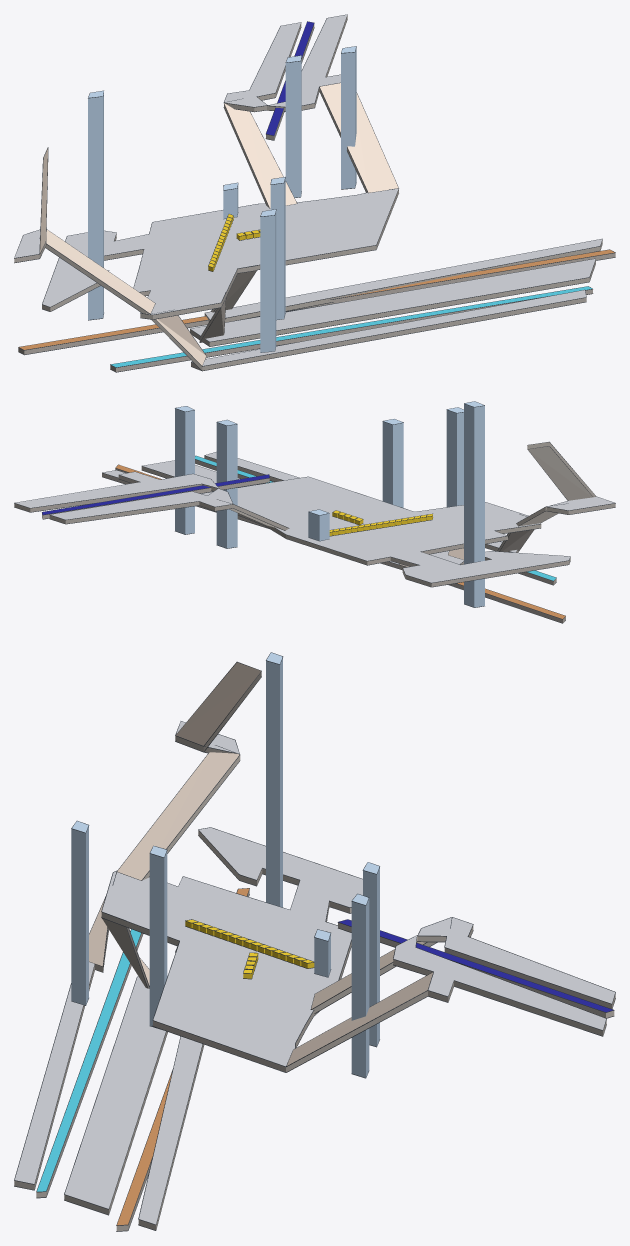
The model's file is pinar_de_chamartin.glb.
The picture shows the model from 3 angles, top to bottom: view 1: azimuth 30°, elevation 25°; view 2: azimuth 150°, elevation 25°; view 3: azimuth 270°, elevation 25°; orthographic projection. The views are drawn at different scales.
Visible parts, largest first — view 1: Vestibulo principal poligonal, Anden central L1 L4, Anden lateral L1, Anden lateral L4, Franja L4, Ascensor exterior alto, Franja L1, Bajada ML1 frontal a vestibulo, Anden ML1 posterior con retorno, Ascensor frontal L1, Bajada ML1 posterior a vestibulo, Anden ML1 frontal con retorno (+17 smaller); view 2: Vestibulo principal poligonal, Ascensor exterior alto, Anden ML1 frontal con retorno, Anden ML1 posterior con retorno, Ascensor ML1 posterior, Ascensor ML1 frontal, Ascensor central L4, Ascensor frontal L1, Acceso oeste tramo superior, Simbolo ML1, Vestibulo principal poligonal borde, Franja L4 (+13 smaller); view 3: Vestibulo principal poligonal, Anden central L1 L4, Anden ML1 frontal con retorno, Anden ML1 posterior con retorno, Anden lateral L4, Acceso oeste tramo inferior, Ascensor exterior alto, Anden lateral L1, Ascensor frontal L1, Franja L1, Ascensor ML1 frontal, Acceso oeste tramo superior (+9 smaller).
Boxes of the visible parts, x1,y1,x2,y2 form: Vestibulo principal poligonal: (42, 188, 398, 319); Anden central L1 L4: (190, 259, 595, 346); Anden lateral L1: (191, 290, 586, 370); Anden lateral L4: (204, 239, 602, 322); Franja L4: (18, 250, 615, 354); Ascensor exterior alto: (88, 91, 103, 319); Franja L1: (110, 286, 592, 371); Bajada ML1 frontal a vestibulo: (319, 83, 398, 192); Anden ML1 posterior con retorno: (224, 22, 301, 111); Ascensor frontal L1: (260, 209, 276, 352); Bajada ML1 posterior a vestibulo: (224, 103, 296, 208); Anden ML1 frontal con retorno: (267, 15, 347, 111); Vestibulo principal poligonal: (201, 477, 570, 586); Ascensor exterior alto: (464, 401, 484, 607); Anden ML1 frontal con retorno: (14, 472, 218, 512); Anden ML1 posterior con retorno: (49, 488, 233, 523); Ascensor ML1 posterior: (216, 420, 237, 548); Ascensor ML1 frontal: (175, 406, 194, 534); Ascensor central L4: (382, 419, 403, 507); Ascensor frontal L1: (446, 407, 463, 507); Acceso oeste tramo superior: (527, 442, 595, 500); Simbolo ML1: (42, 474, 269, 518); Vestibulo principal poligonal borde: (209, 476, 570, 583); Franja L4: (115, 465, 565, 623); Vestibulo principal poligonal: (101, 827, 362, 1072); Anden central L1 L4: (64, 977, 167, 1214); Anden ML1 frontal con retorno: (393, 935, 606, 1035); Anden ML1 posterior con retorno: (417, 917, 615, 1008); Anden lateral L4: (138, 1036, 203, 1230); Acceso oeste tramo inferior: (117, 752, 240, 880); Ascensor exterior alto: (266, 652, 282, 907); Anden lateral L1: (14, 962, 94, 1189); Ascensor frontal L1: (71, 821, 88, 1005); Franja L1: (36, 929, 142, 1197); Ascensor ML1 frontal: (351, 894, 369, 1077); Acceso oeste tramo superior: (175, 662, 261, 751).
Size of the model in its own units: 84.58 by 31.97 by 60.01.
